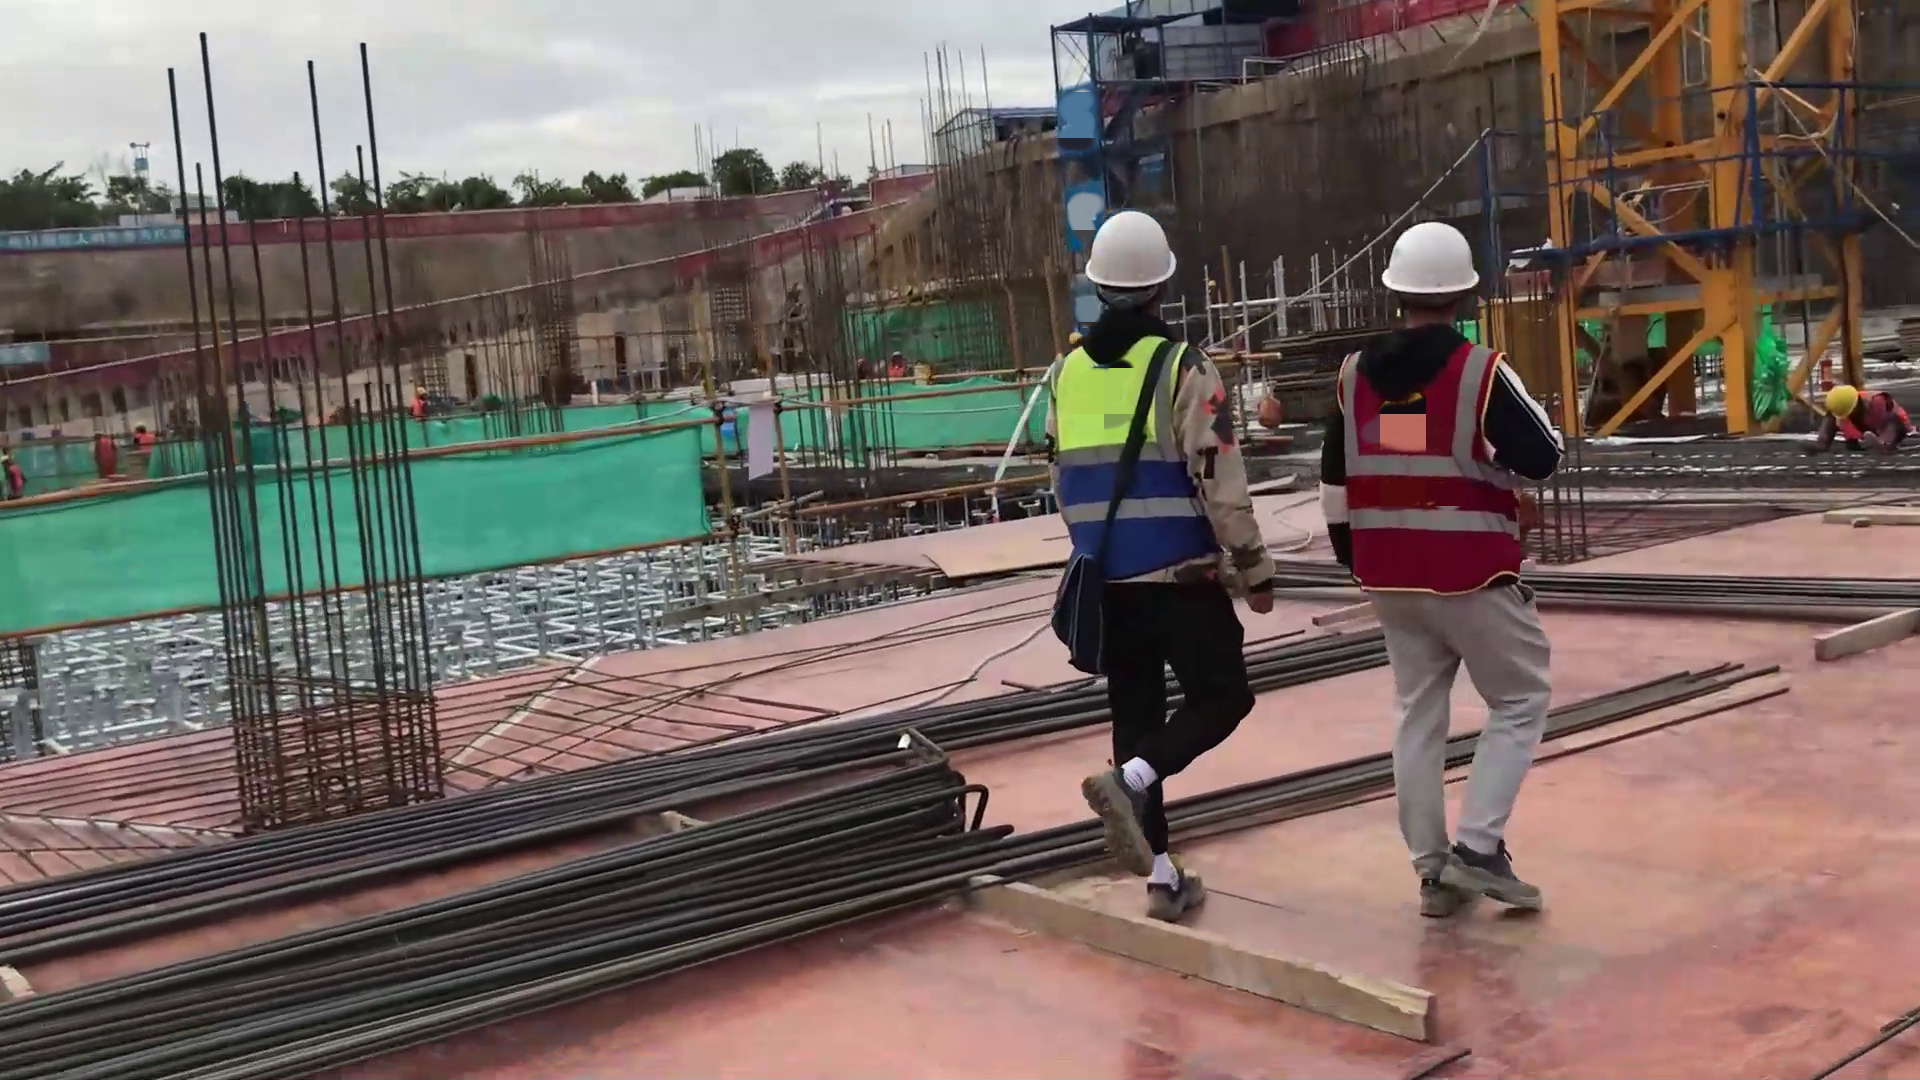helmet: (1086, 211, 1177, 287), (1382, 223, 1479, 293), (1826, 384, 1858, 419)
person: (1318, 220, 1571, 919), (1048, 205, 1282, 922), (1808, 382, 1916, 455)
rebar: (1, 760, 972, 1080), (1, 683, 1080, 967), (1542, 563, 1920, 620)
vest: (1335, 340, 1519, 595), (1053, 338, 1209, 585), (1839, 392, 1914, 446)
